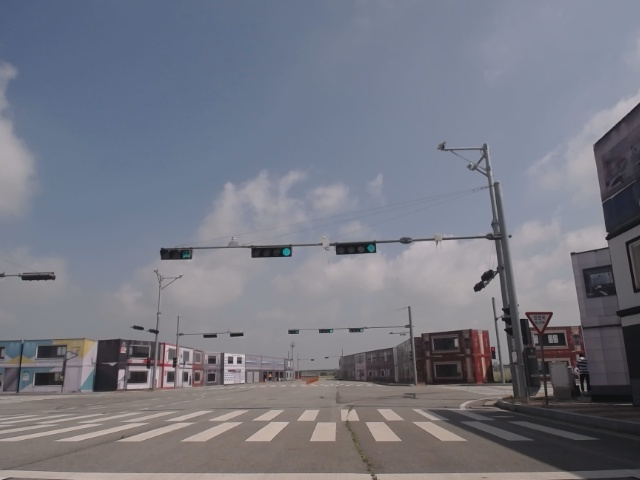straight_green_4: (251, 247, 292, 257), (336, 244, 376, 253)
